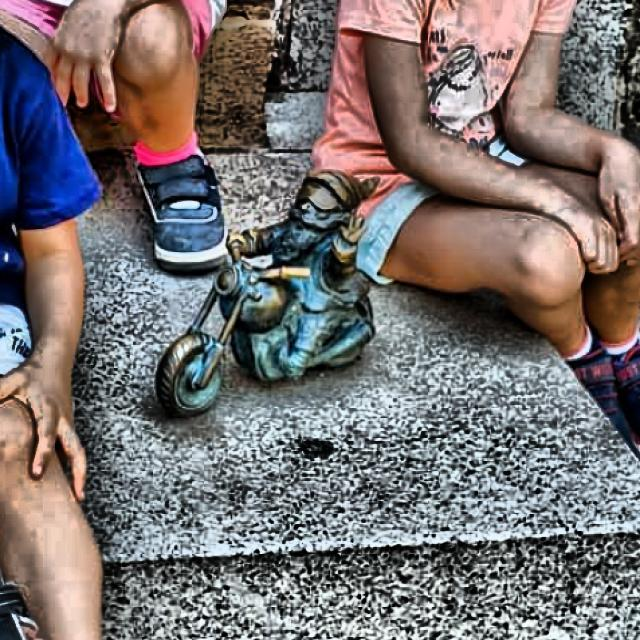Wentyl: (156, 171, 375, 417)
